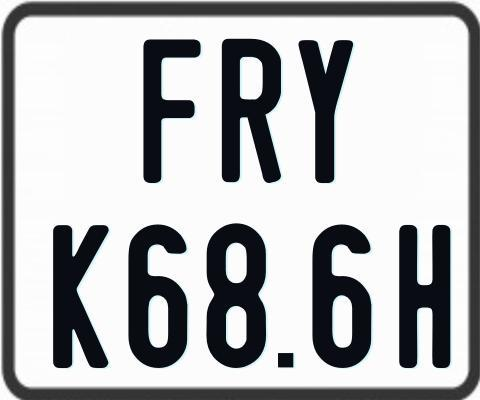6: (311, 225, 372, 374), (127, 222, 188, 366)
8: (203, 222, 268, 372)
F: (143, 39, 202, 184)
H: (398, 225, 451, 374)
K: (51, 224, 113, 372)
R: (220, 36, 283, 182)
Y: (298, 39, 357, 184)
